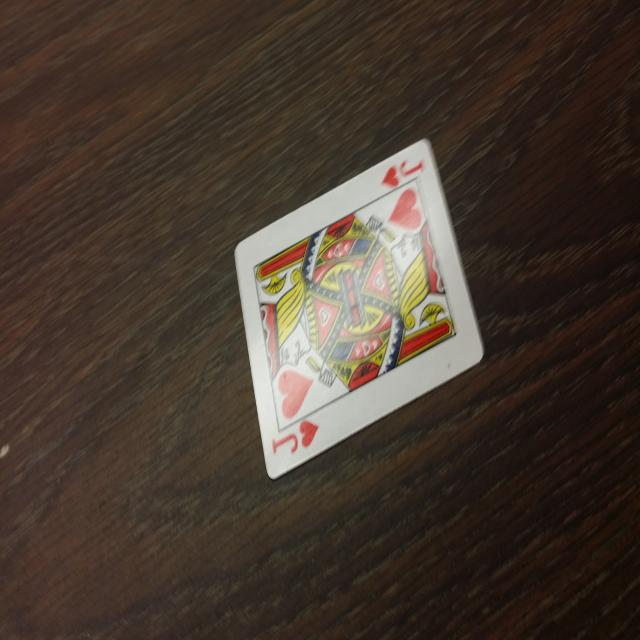Jh: (265, 411, 327, 469), (376, 154, 428, 197)
